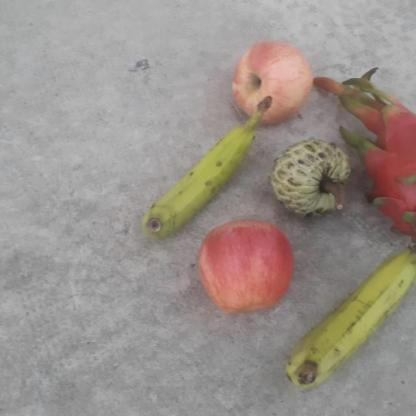annona: (268, 137, 354, 220)
apple: (197, 217, 296, 314), (230, 39, 314, 128)
banana: (138, 94, 274, 240), (287, 242, 416, 389)
pitaya: (358, 103, 416, 246)
